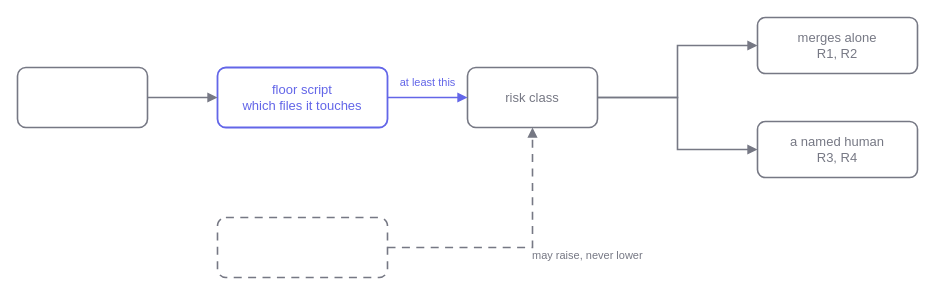
The diagram is 936 pixels wide and 296 high, and some of its shapes have lost their labels. The centre of each missing label's shape, as x and y in pixels:
"the agent's opinion of its own change" goes at pixel 302 247.
"the diff" goes at pixel 82 97.
